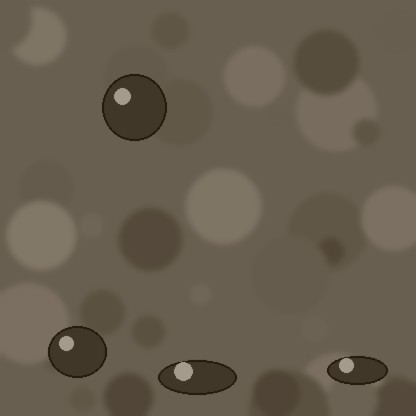gota: (102, 76, 166, 146), (48, 328, 106, 382), (158, 361, 236, 397), (327, 357, 387, 387)
